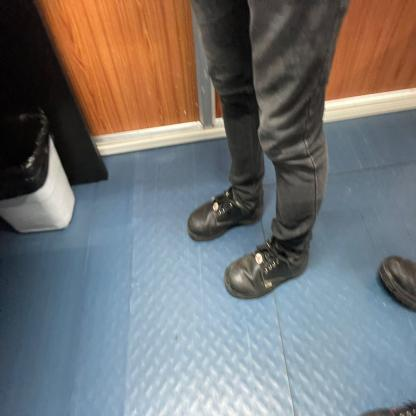bota: (223, 236, 309, 299), (183, 185, 265, 245), (374, 246, 416, 312)
